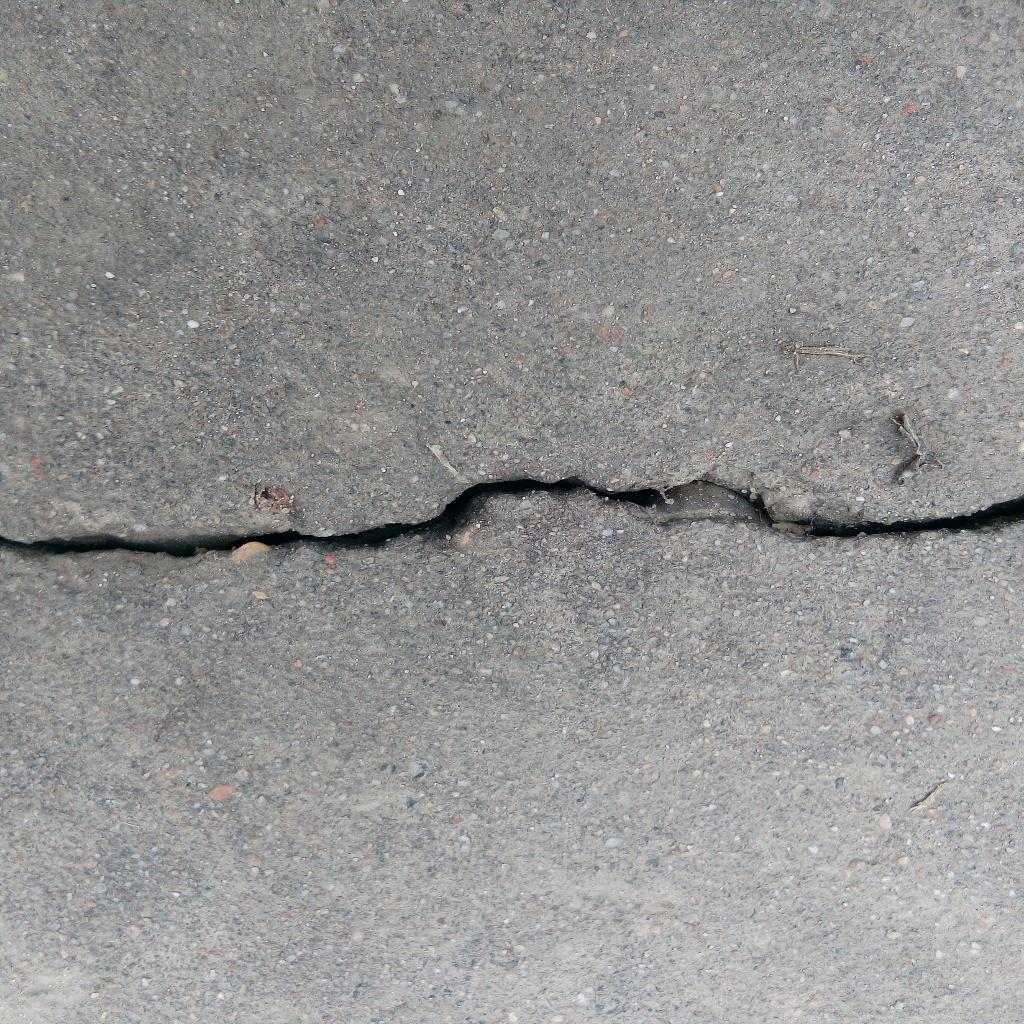Crack: (1, 475, 1024, 560)
